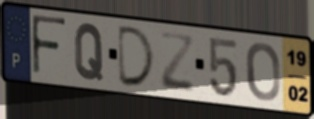5: (207, 34, 239, 99)
D: (117, 24, 158, 89)
F: (29, 12, 69, 79)
O: (244, 40, 282, 103)
Q: (73, 22, 105, 83)
Z: (158, 29, 196, 95)
